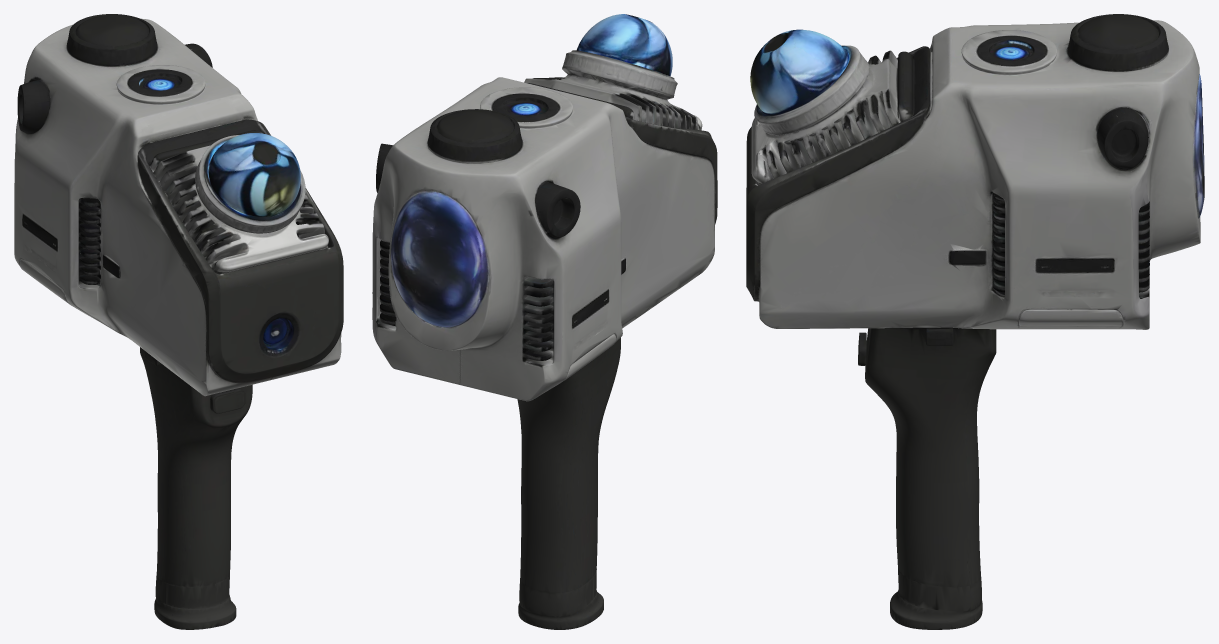
File: scanner_hunyuan.glb
The picture shows the model from 3 angles, left to right: view 1: azimuth 30°, elevation 25°; view 2: azimuth 150°, elevation 25°; view 3: azimuth 270°, elevation 25°; orthographic projection. The views are drawn at different scales.
Parts seen in each view (by area): view 1: node_0; view 2: node_0; view 3: node_0.
Part boxes in pixels (x1=…): node_0: x1=14, y1=14, x2=343, y2=629; node_0: x1=372, y1=14, x2=717, y2=629; node_0: x1=746, y1=14, x2=1204, y2=629.
Bounding box in the file's own units: 0.3962 × 1.06 × 0.7503.
Materials: 1 (1 with a texture image).
